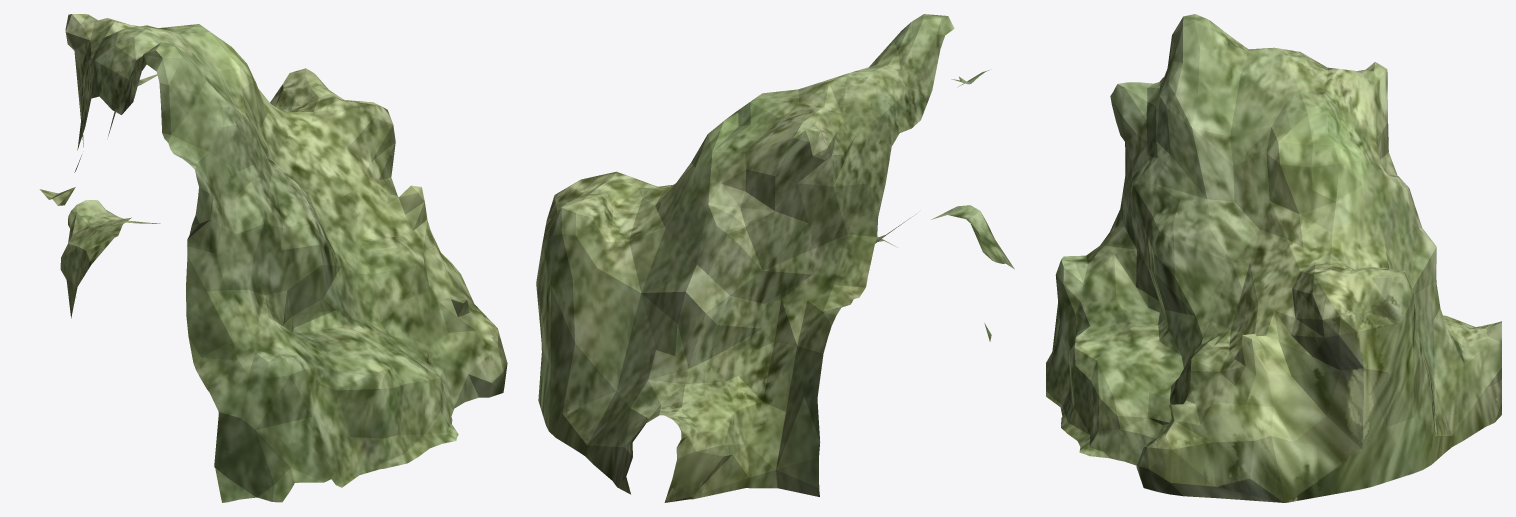
The picture shows the model from 3 angles, left to right: view 1: azimuth 30°, elevation 25°; view 2: azimuth 150°, elevation 25°; view 3: azimuth 270°, elevation 25°; orthographic projection. The views are drawn at different scales.
Bounding box in the file's own units: 2.3 × 2.44 × 2.95.
4 materials, 4 textured.
